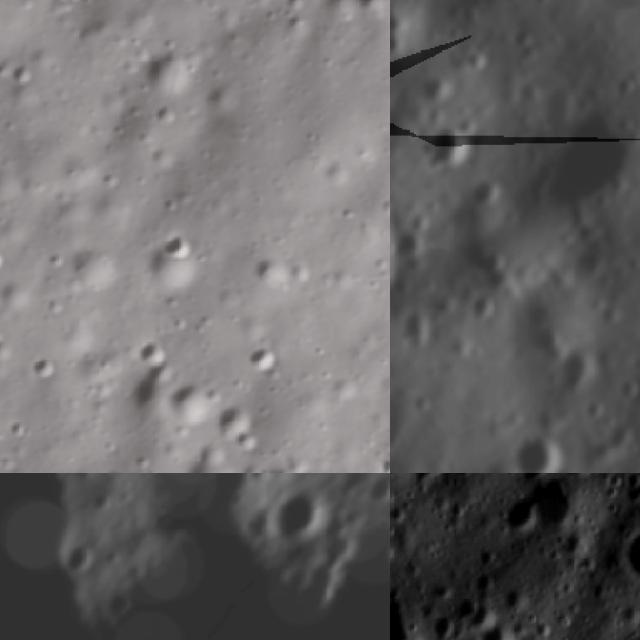crater: (510, 84, 640, 244), (119, 473, 313, 572), (260, 475, 347, 564), (138, 216, 215, 304), (410, 115, 487, 192), (537, 334, 611, 408), (135, 32, 206, 102), (493, 423, 570, 473), (52, 529, 112, 591), (458, 166, 518, 227), (390, 299, 445, 365), (157, 368, 216, 426), (454, 283, 506, 334), (390, 586, 433, 640), (240, 331, 287, 380), (210, 397, 260, 440), (355, 473, 390, 519), (616, 526, 640, 580), (91, 452, 146, 473), (374, 478, 390, 535), (405, 473, 452, 487)
